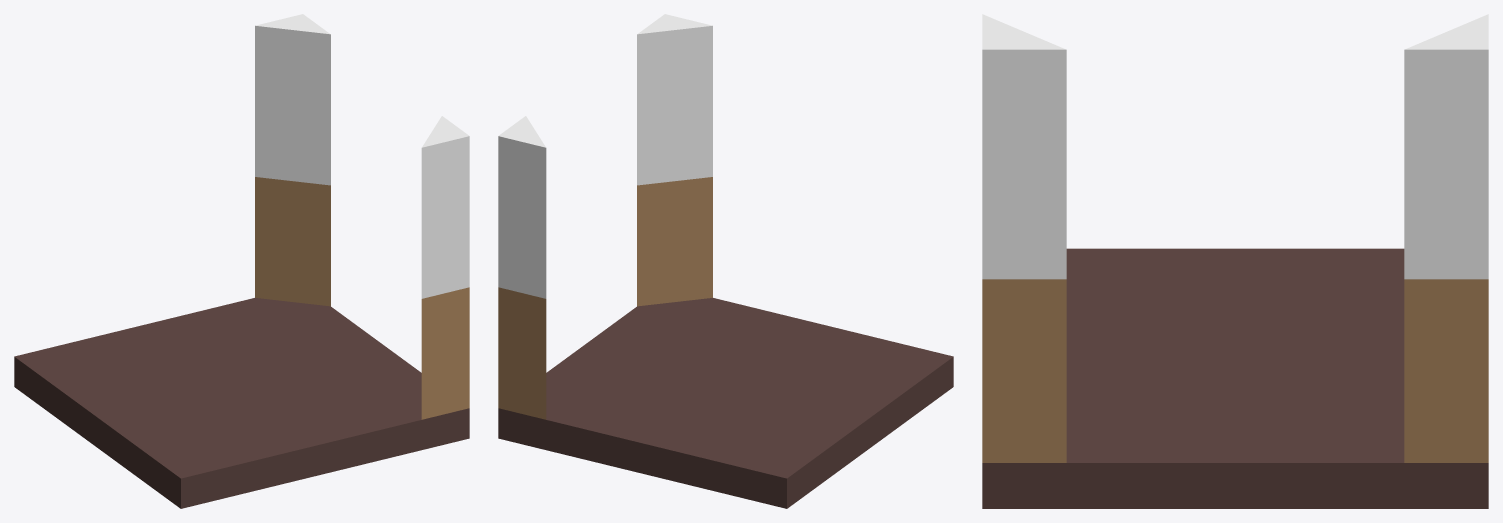
The model's file is floor_corner_cut_2.FBX.
The picture shows the model from 3 angles, left to right: view 1: azimuth 30°, elevation 25°; view 2: azimuth 150°, elevation 25°; view 3: azimuth 270°, elevation 25°; orthographic projection. The views are drawn at different scales.
Parts seen in each view (by area): view 1: Object265; view 2: Object265; view 3: Object265.
Boxes of the visible parts, x1,y1,x2,y2 form: Object265: [14, 14, 469, 508]; Object265: [498, 14, 953, 508]; Object265: [982, 14, 1488, 508].
Size of the model in its own units: 100 by 100 by 100.
